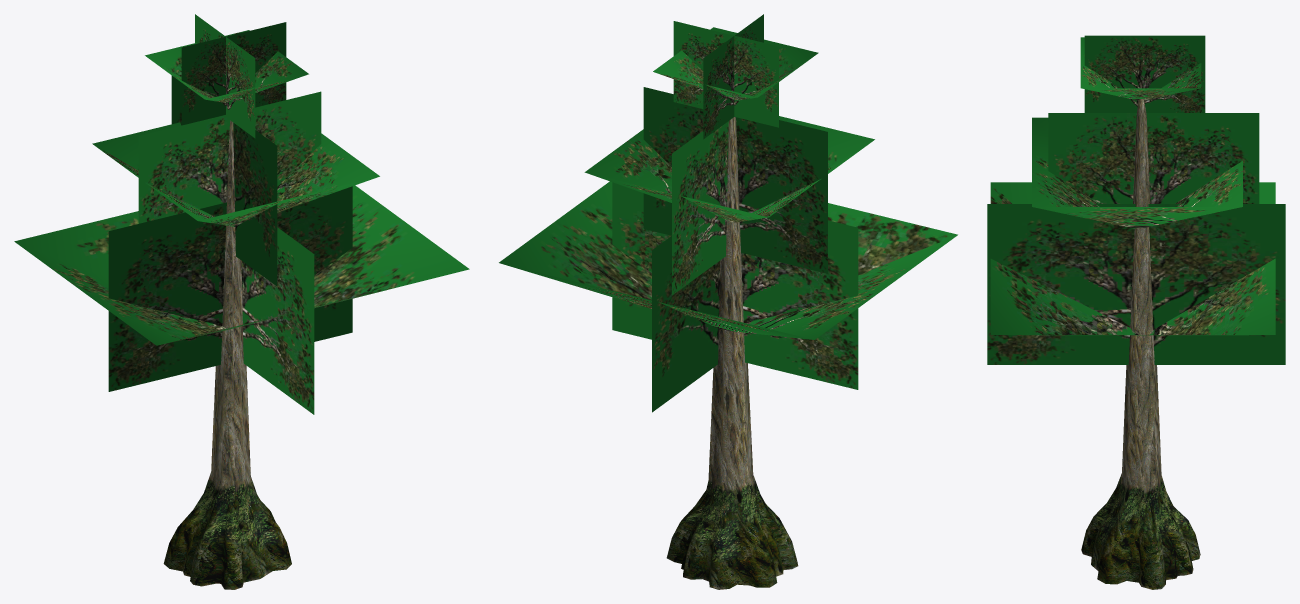
Rendered from decd_brownflaredroots_l0.fbx.
3 views of the same model, side by side, from view 1: azimuth 30°, elevation 25°; view 2: azimuth 150°, elevation 25°; view 3: azimuth 270°, elevation 25° (orthographic).
Visible parts, largest first — view 1: mesh_node; view 2: mesh_node; view 3: mesh_node.
Boxes of the visible parts, left/top/right/bottom form: mesh_node: left=14, top=14, right=469, bottom=589; mesh_node: left=499, top=14, right=957, bottom=589; mesh_node: left=987, top=35, right=1285, bottom=589.
Size of the model in its own units: 15 by 24.02 by 12.36.
